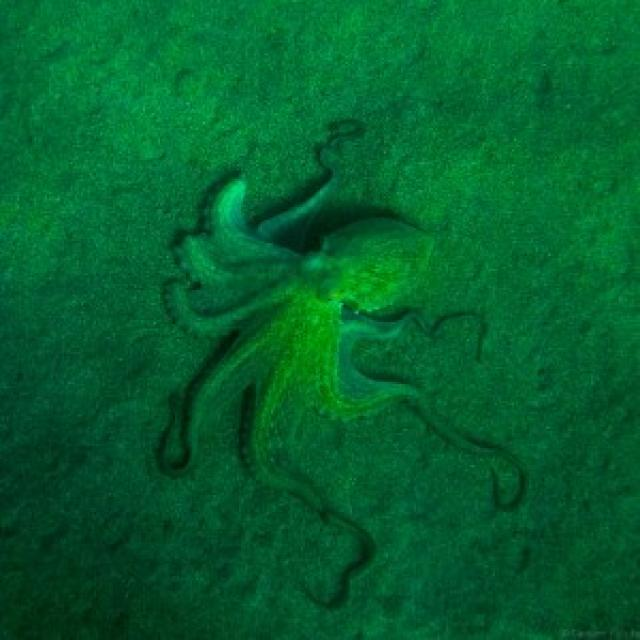Octo: (177, 144, 524, 562)
